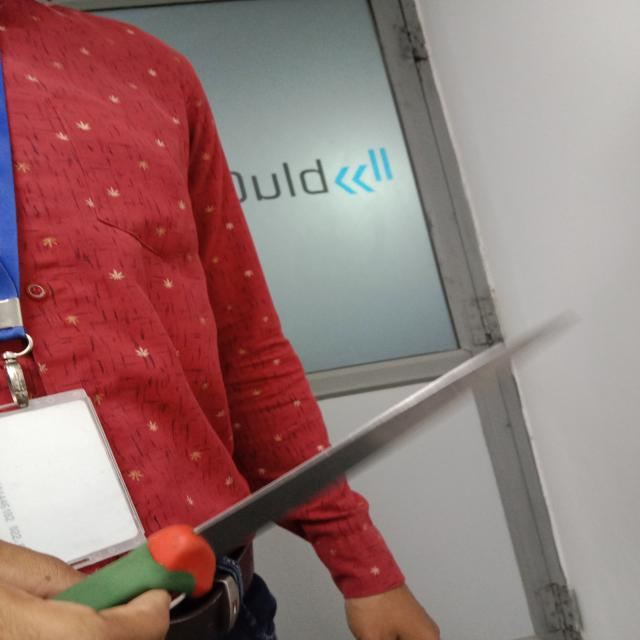Knife: (55, 313, 571, 610)
